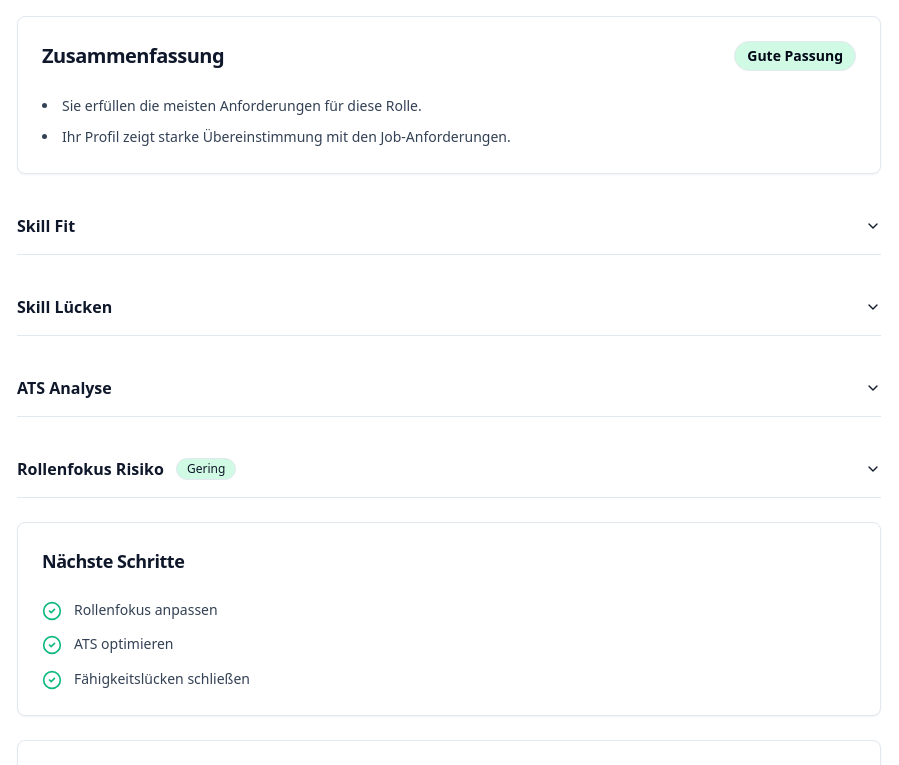
Test: ResultsScreen › Skill Fit section › should handle empty skill fit gracefully
Click the button "Skill Fit" at (46, 226), box [17,198,881,254]
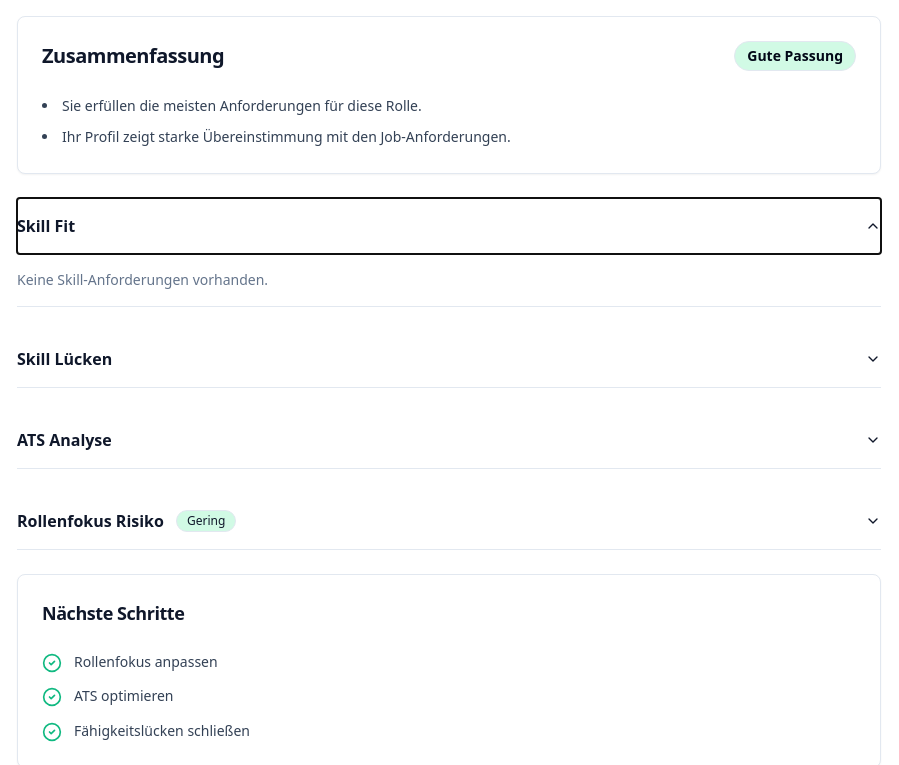
expect the text "Keine Skill-Anforderungen vorhanden." is shown: met, box [17,270,268,288]
